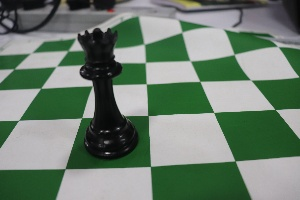black_queen: (68, 16, 146, 166)
